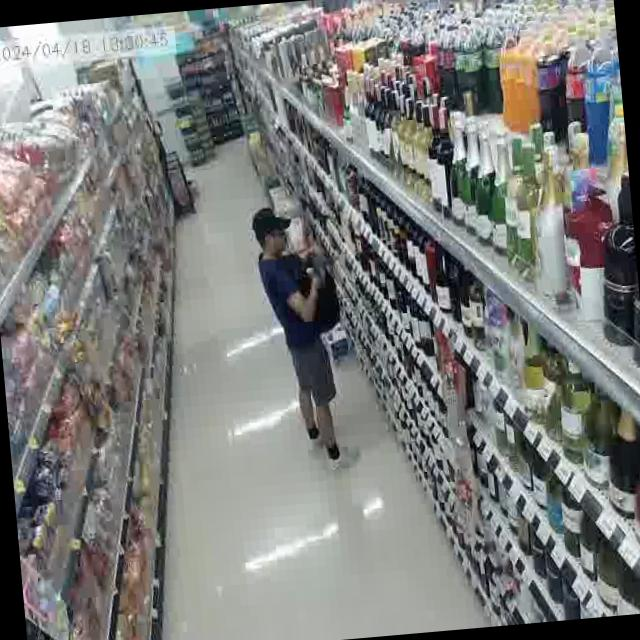shoplifting: (234, 186, 374, 500)
